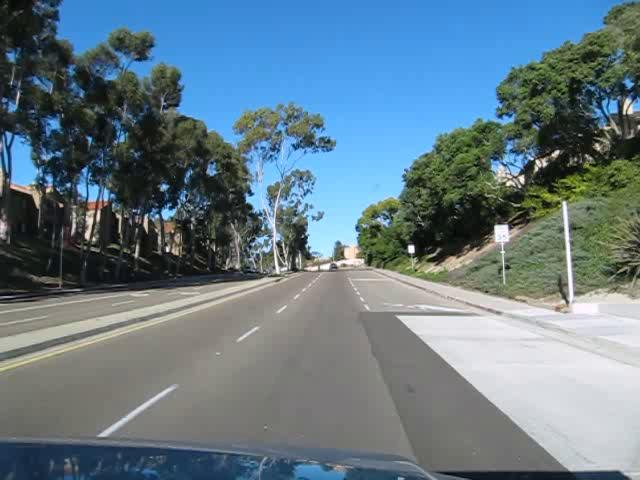speedLimit35: (494, 224, 509, 242)
